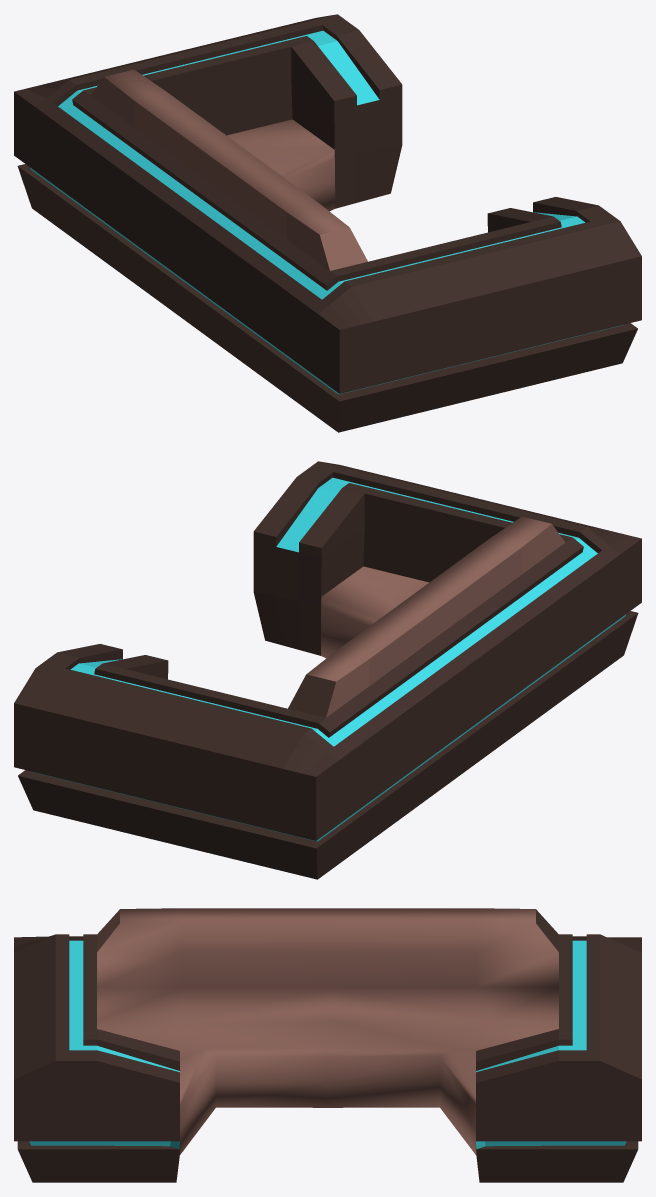
File: couch1.fbx
3 renders of one model, top to bottom at view 1: azimuth 30°, elevation 25°; view 2: azimuth 150°, elevation 25°; view 3: azimuth 270°, elevation 25°, orthographic. The views are drawn at different scales.
Parts seen in each view (by area): view 1: Cube.002; view 2: Cube.002; view 3: Cube.002.
Boxes of the visible parts, box(x1,y1,x2,y2) form: Cube.002: box(14, 14, 641, 432); Cube.002: box(14, 461, 641, 879); Cube.002: box(14, 908, 641, 1182).
Bounding box in the file's own units: 150 × 75.04 × 280.
